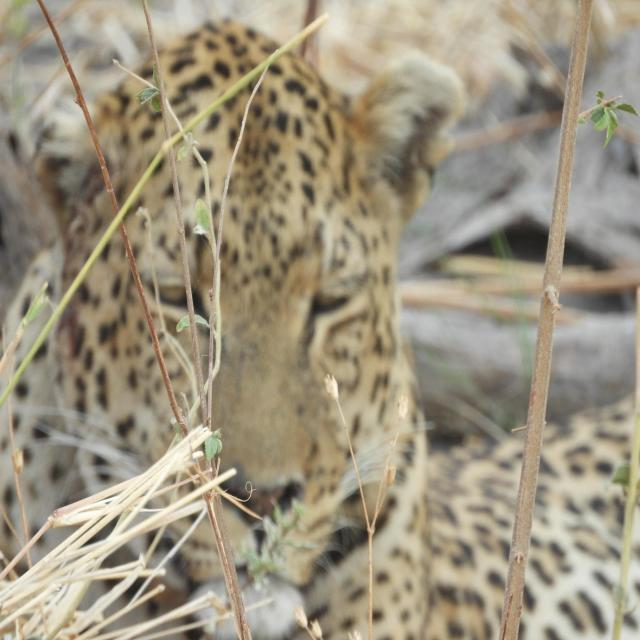Leopard: (0, 31, 640, 640)
